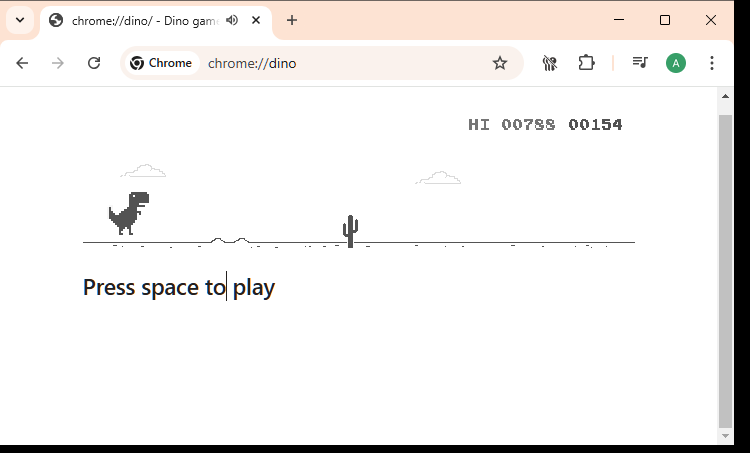cactus: (342, 214, 359, 249)
dino: (108, 191, 150, 237)
